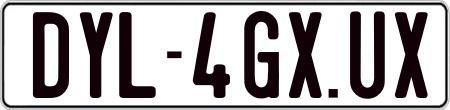4: (190, 9, 230, 99)
D: (33, 12, 71, 102)
G: (244, 11, 281, 101)
L: (117, 12, 159, 100)
U: (349, 9, 385, 97)
X: (392, 11, 428, 98), (286, 10, 319, 96)
Y: (77, 11, 116, 103)
